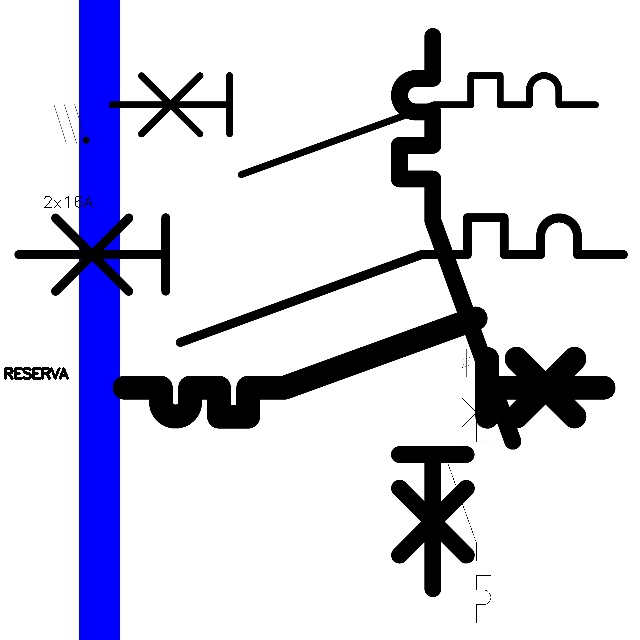interruptor_termomagnetico: (3, 202, 639, 358), (385, 22, 527, 603), (99, 63, 608, 187), (112, 306, 616, 429), (436, 377, 497, 628)
